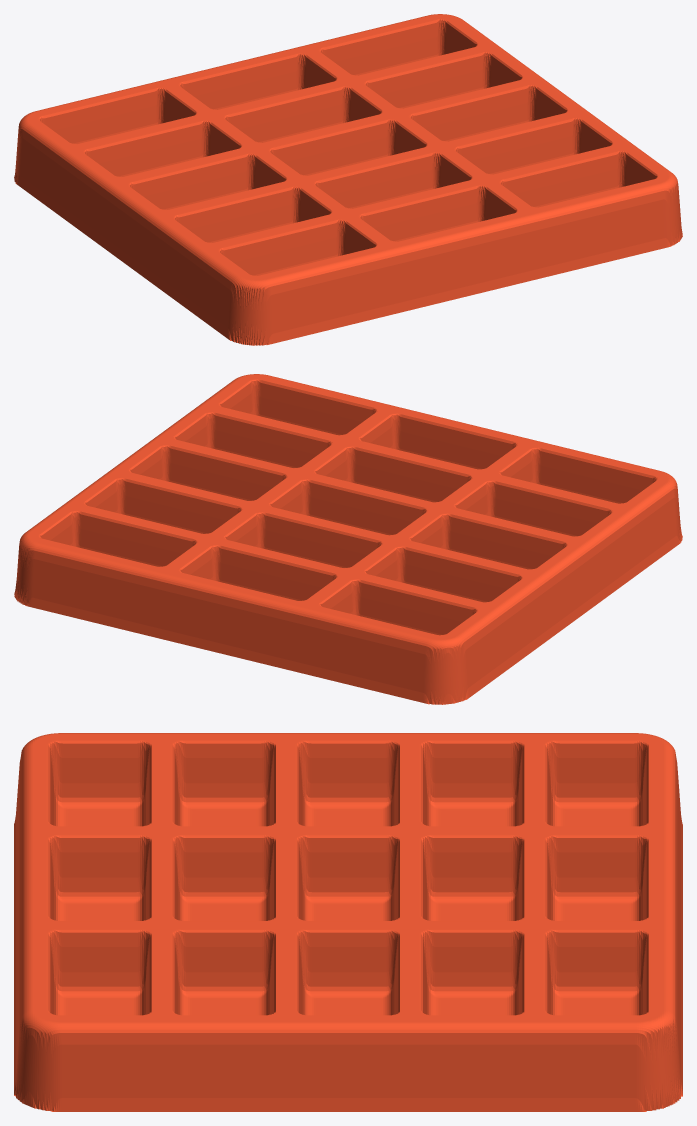
Rendered from mold.glb.
3 views of the same model, one above another, from view 1: azimuth 30°, elevation 25°; view 2: azimuth 150°, elevation 25°; view 3: azimuth 270°, elevation 25° (orthographic). The views are drawn at different scales.
Visible parts, largest first — view 1: geometry_0; view 2: geometry_0; view 3: geometry_0.
Part boxes in pixels (left/top/right/bottom): geometry_0: left=14, top=14, right=682, bottom=345; geometry_0: left=14, top=374, right=682, bottom=704; geometry_0: left=14, top=733, right=682, bottom=1111.
Bounding box in the file's own units: 0.1392 × 0.0175 × 0.1296.
